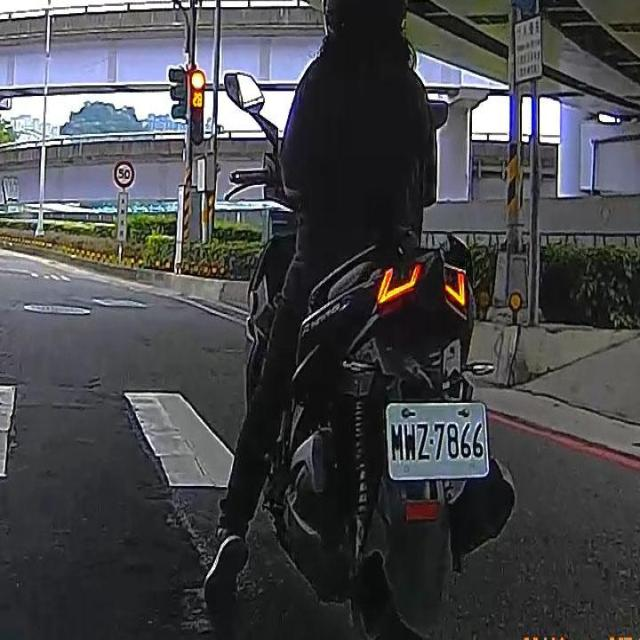license-plate: (380, 401, 490, 480)
